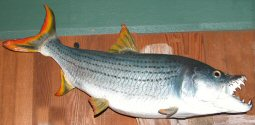fish: (0, 4, 253, 119)
